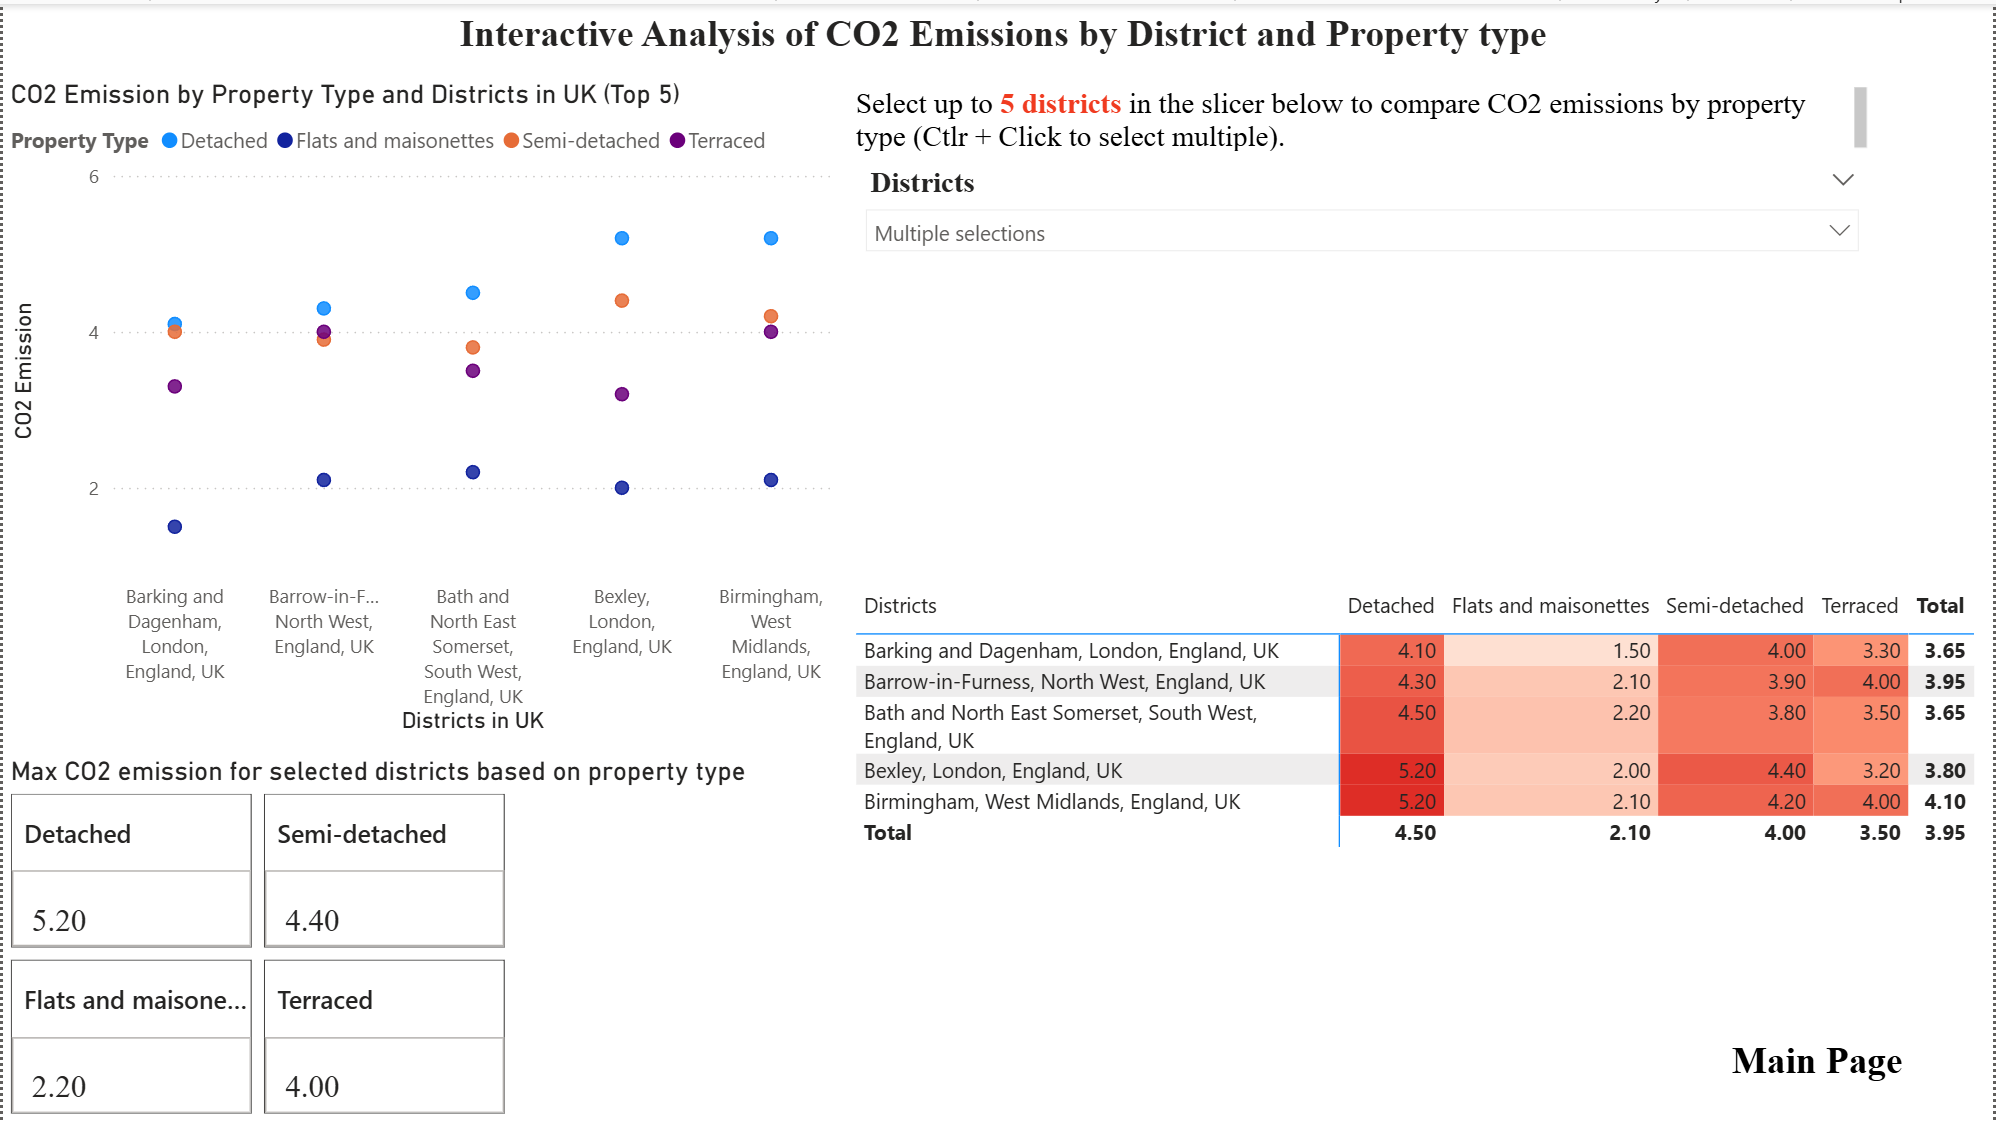

Layout of this report page (visuals, bound fields, positions):
{"tool":"powerbi","page":{"name":"Multi-dimensional data task","canvas":[1280,720],"ordinal":1},"visuals":[{"type":"scatterChart","title":"CO2 Emission by Property Type and Districts in UK (Top 5)","fields":{"Series":["2b.Property Type"],"Y":["Median(2b.CO2 Emission)"],"X":["2b.Districts"]},"box":[0,48.4,530.5,425.7],"z":0},{"type":"slicer","fields":{"Values":["2b.Districts"]},"box":[545,98.7,658.6,273.2],"z":1000},{"type":"textbox","box":[544,48.4,660,50.7],"z":2000},{"type":"cardVisual","title":"Max CO2 emission for selected districts based on property type","fields":{"Rows":["2b.Property Type"],"Data":["2b.Max CO2 value based on District"]},"box":[0,484.3,530.5,235.4],"z":3000},{"type":"pivotTable","fields":{"Rows":["2b.Districts"],"Columns":["2b.Property Type"],"Values":["Median(2b.CO2 Emission)"]},"box":[530,372.9,750,228.6],"z":4000},{"type":"textbox","box":[156.9,0,973.6,48.7],"z":5000},{"type":"actionButton","box":[1072.3,642.3,189.3,77.1],"z":6000}]}

Visuals, with their boxes in screenshot pixels (x1, y1, x2, y2), scaled from the page's 1280x720 canvas onto the 1996x1121 screenshot:
"CO2 Emission by Property Type and Districts in UK (Top 5)" scatterChart: 0/75/827/738
slicer - 2b.Districts: 850/154/1877/579
textbox: 848/75/1877/154
"Max CO2 emission for selected districts based on property type" cardVisual: 0/754/827/1120
pivotTable - 2b.Districts x 2b.Property Type: 826/581/1995/937
textbox: 245/0/1763/76
actionButton: 1672/1000/1967/1120
